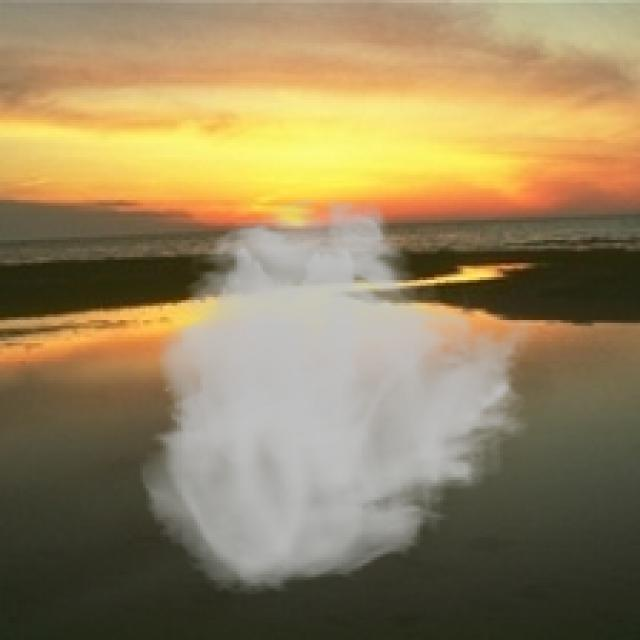smoke: (137, 194, 540, 597)
